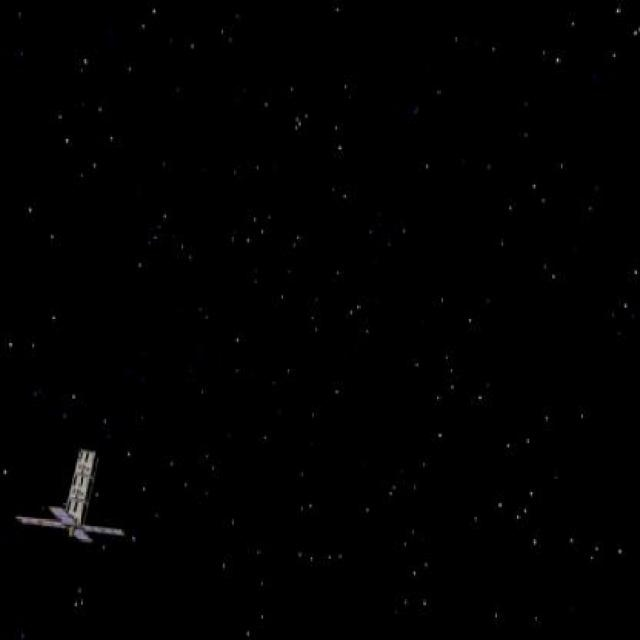medium_debris: (11, 433, 143, 557)
